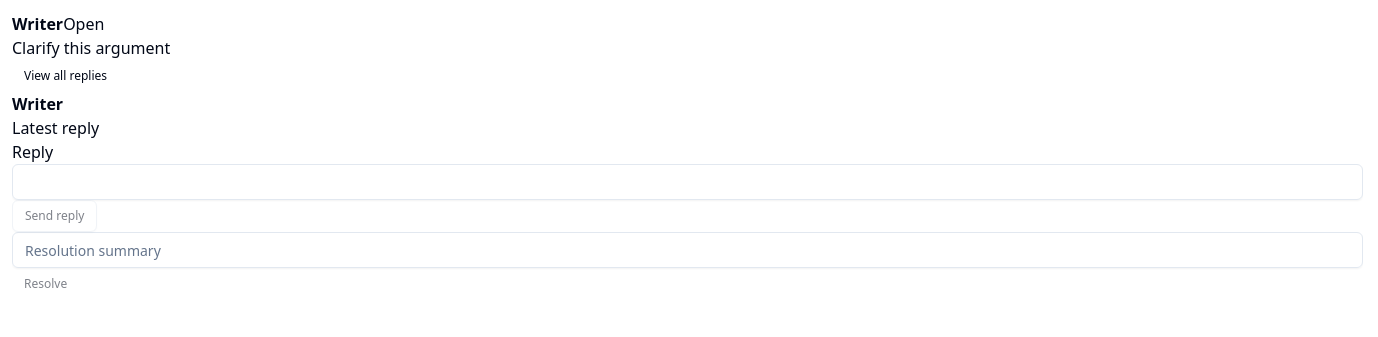
Test: loads complete reply pages and honors a refreshed denial of reply and resolution permissions
The width and height of the screenshot is (1378, 337).
Click the button "View all replies" at x=66, y=76, box [12,60,119,92]
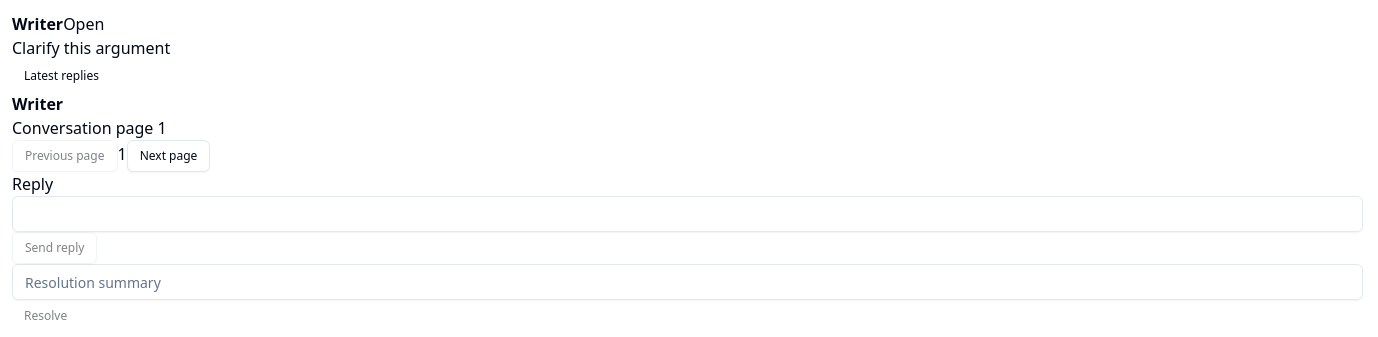
Expected: the text "Conversation page 1" is shown, [12,117,167,139]
Click the button "Next page" at x=169, y=156, box [127,140,210,172]
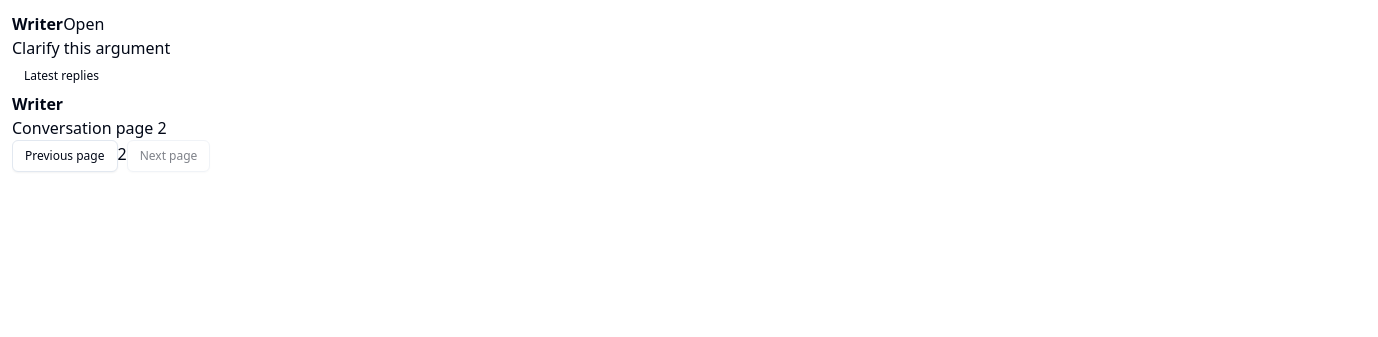
Expected: the text "Conversation page 2" is shown, [12,117,167,139]
Expected: the button "Next page" is disabled, [127,140,210,172]
Expected: the form is gone
